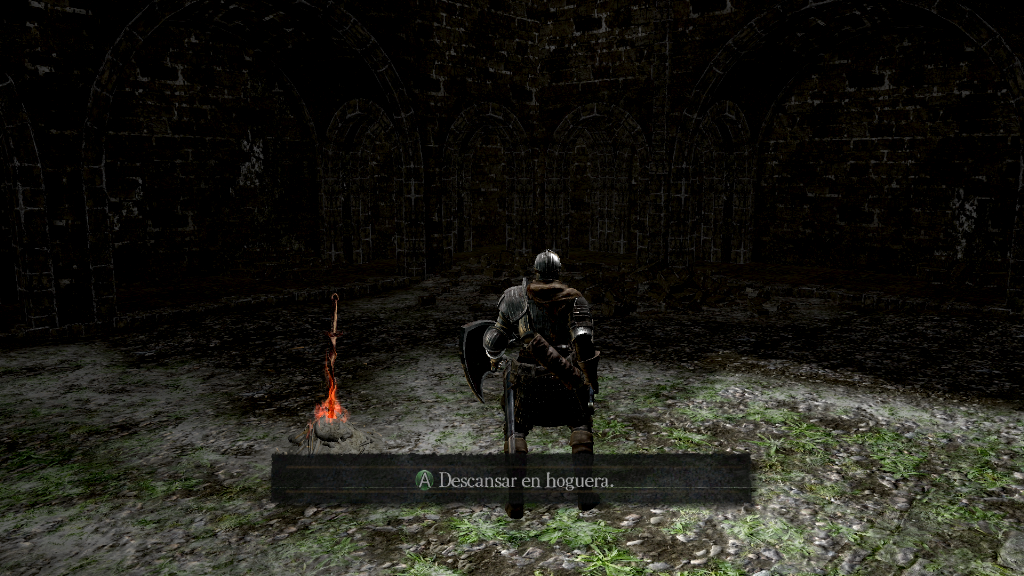bonfire: (306, 293, 356, 444)
dialogBox: (274, 454, 751, 504)
player: (457, 248, 603, 518)
